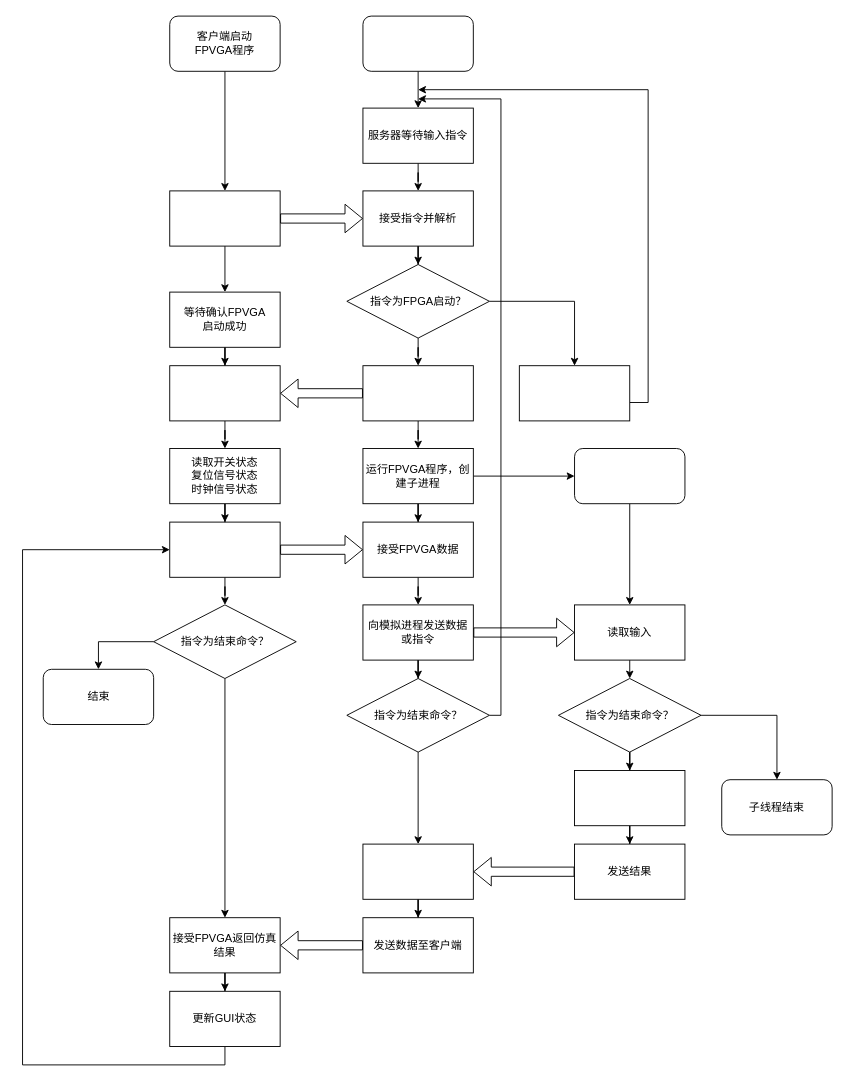
The diagram is 848 pixels wide and 1088 high, and some of its shapes have lost their labels. The box of each missing label's shape, as (x1, y1, x2, y2) in pixels:
交由其他程序处理: (518, 365, 630, 421)
仿真，得到结果: (574, 770, 685, 826)
发送FPVGA启动成功: (362, 365, 473, 421)
发送FPVGA启动指令: (169, 190, 280, 246)
发送FPVGA输入 数据/指令: (169, 521, 280, 577)
子进程开始: (574, 448, 685, 504)
接受FPVGA启动 成功标识: (169, 365, 280, 421)
接收结果: (362, 843, 473, 899)
服务器启动 FPVGA程序: (362, 15, 473, 71)
